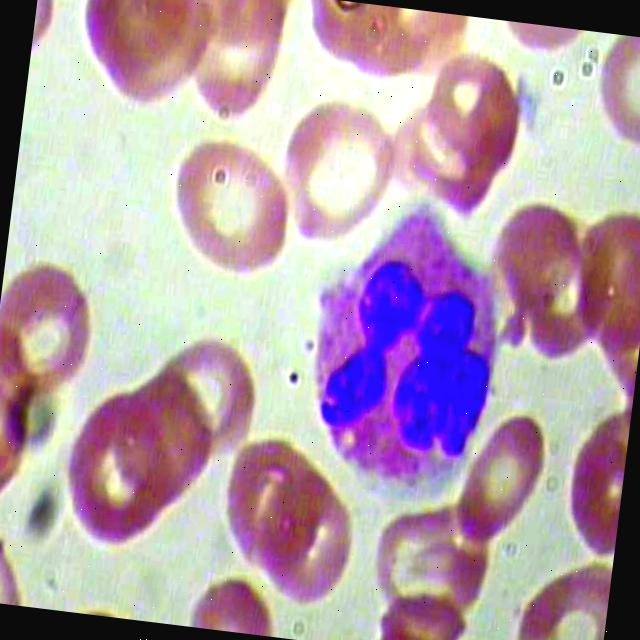RBC: (154, 121, 306, 296), (277, 80, 412, 269), (45, 397, 179, 558), (416, 51, 546, 184), (254, 474, 364, 618), (96, 0, 223, 122), (0, 255, 96, 415), (388, 97, 507, 225), (205, 441, 316, 576), (452, 408, 552, 552), (574, 30, 640, 161)
WBC: (280, 174, 530, 512)
